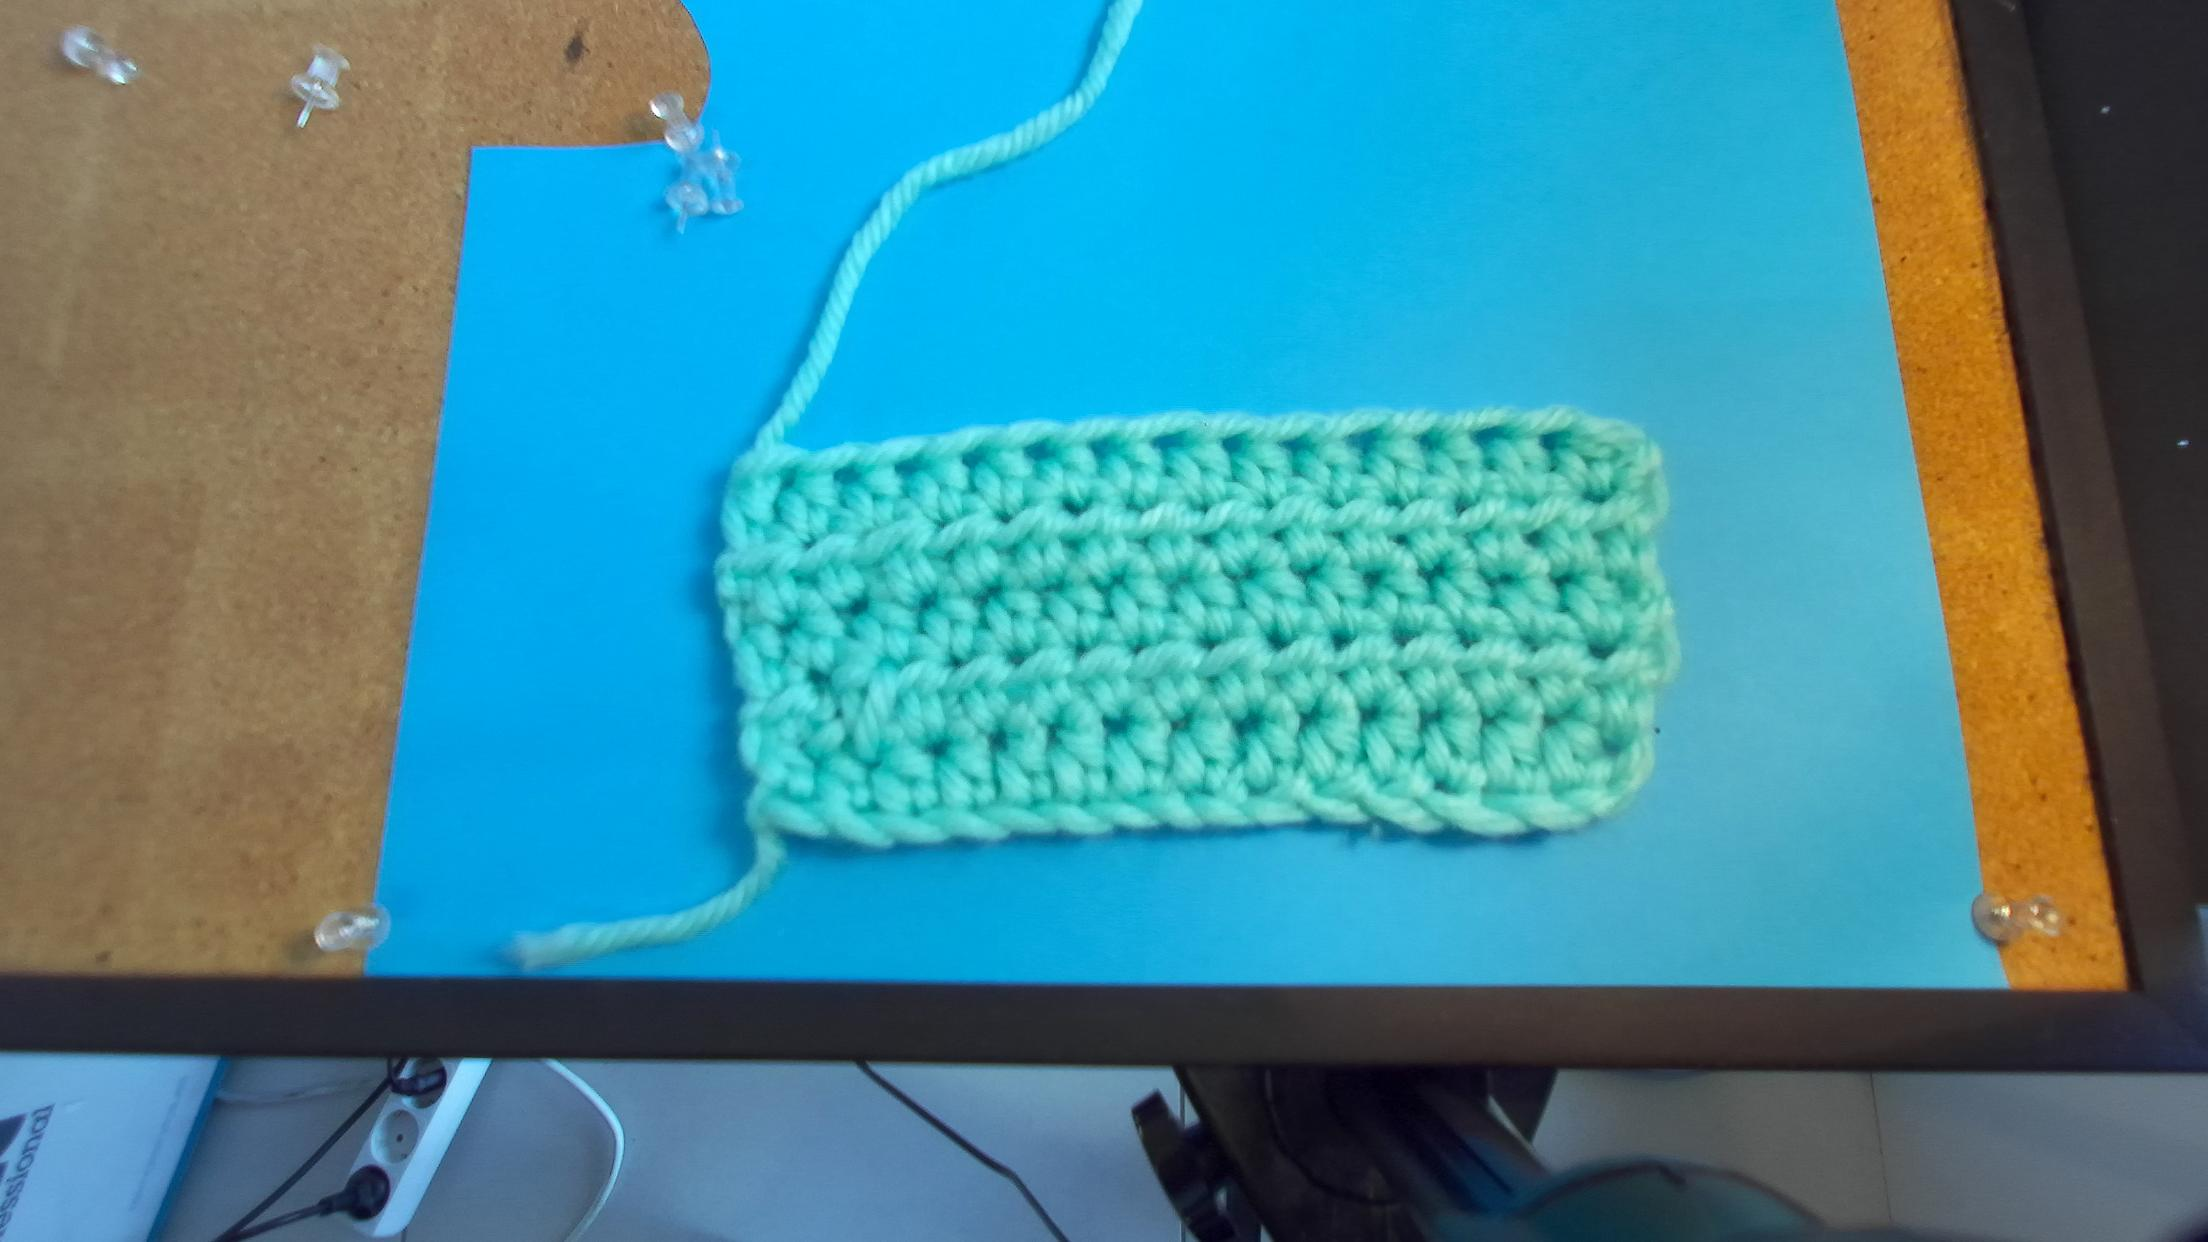hole: (1341, 426, 1382, 453), (1469, 425, 1510, 447), (1022, 435, 1057, 461), (892, 453, 930, 475), (831, 463, 863, 485), (1146, 431, 1186, 449), (1086, 435, 1115, 459), (1274, 435, 1309, 455), (1219, 432, 1244, 458), (1407, 429, 1435, 452), (775, 466, 796, 493), (961, 446, 984, 469), (1541, 431, 1565, 449)
swatch: (713, 409, 1679, 857)
